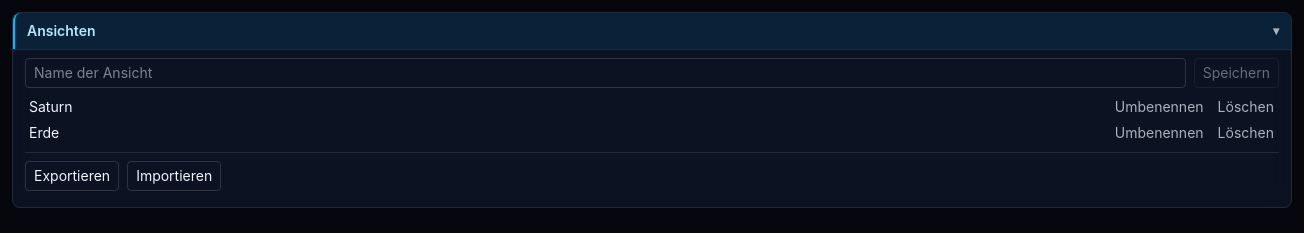
AnsichtenPanel: umbenennen › benennt mit Enter um und schreibt die Ablage
Click the button with aria-label "Umbenennen: Saturn" at point(1159, 107), box left=1110, top=96, right=1209, bottom=118
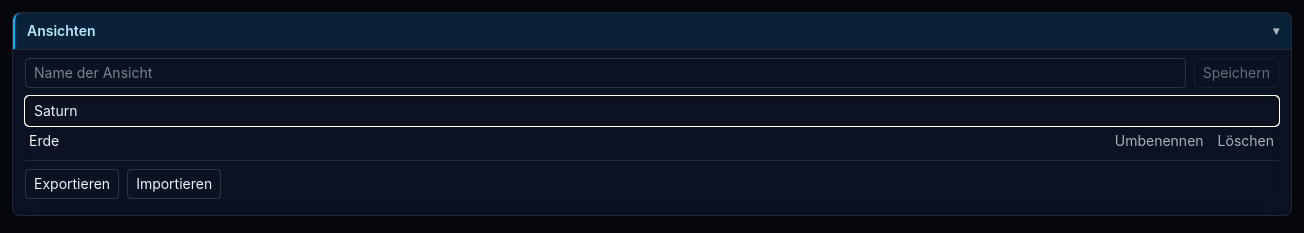
Result: the field named "Neuer Name" holds "Saturn"
Replace the text in the field named "Neuer Name" with "Saturn nah" at point(652, 111), box left=25, top=96, right=1279, bottom=126
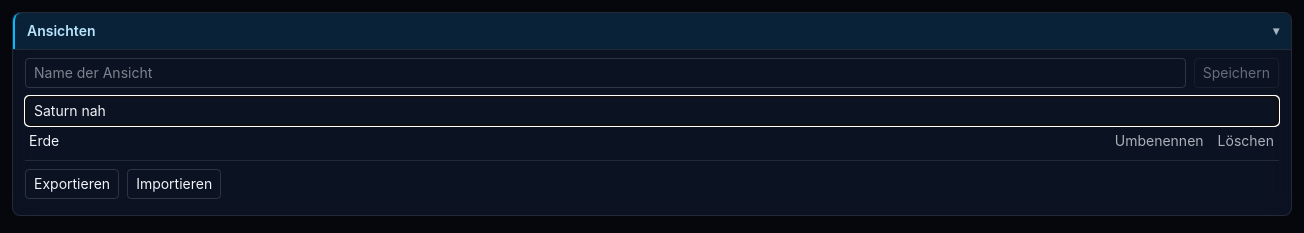
Press Enter in the field named "Neuer Name", box left=25, top=96, right=1279, bottom=126
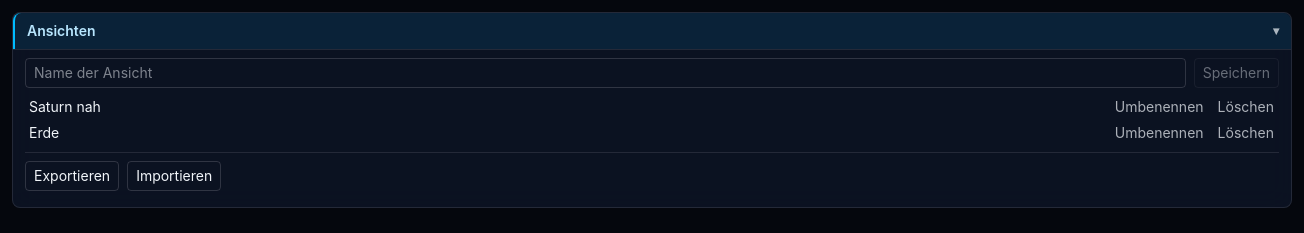
Result: the button with aria-label "Ansicht laden: Saturn nah" is shown at left=25, top=97, right=1106, bottom=117
